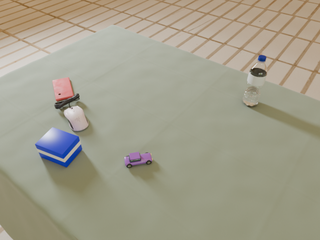bottle: (242, 55, 267, 107)
box: (35, 127, 82, 167)
mouse: (64, 106, 88, 131)
phone: (53, 77, 74, 101)
toy_car: (124, 152, 153, 168)
